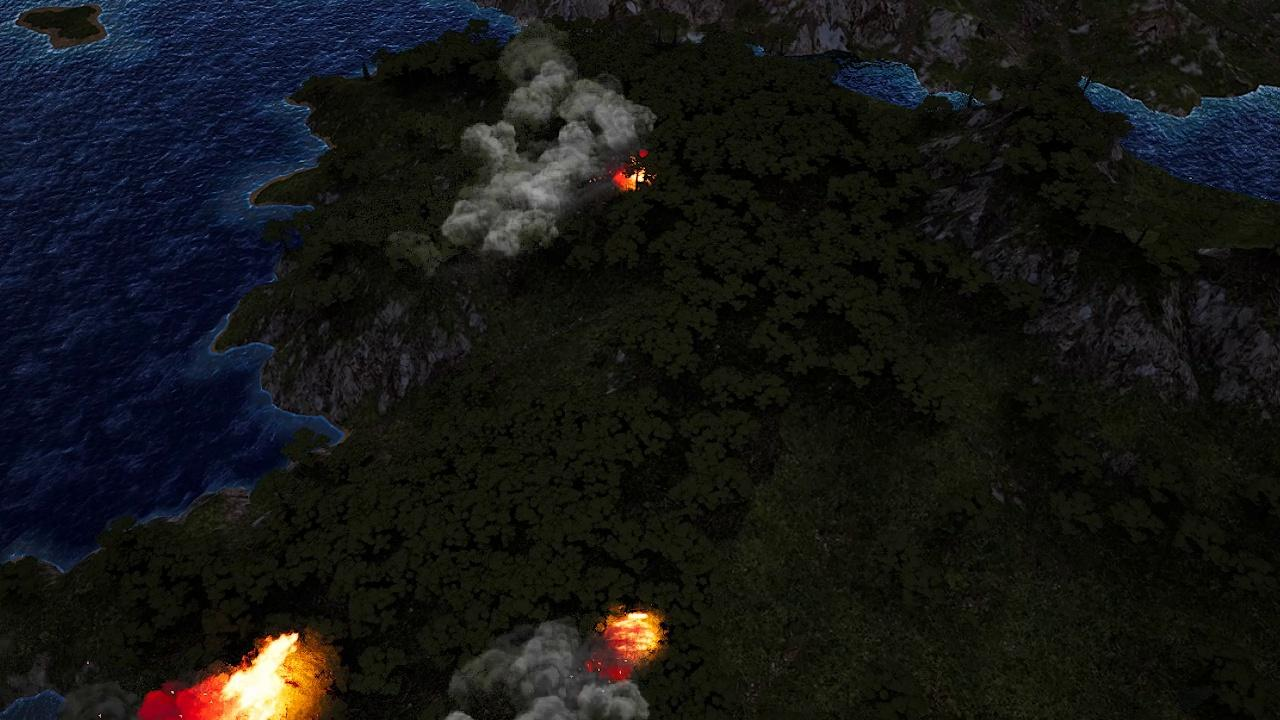fire: (219, 629, 305, 718), (603, 612, 663, 661), (614, 166, 647, 193)
smoke: (434, 36, 658, 263), (432, 616, 658, 718), (66, 674, 226, 720)
